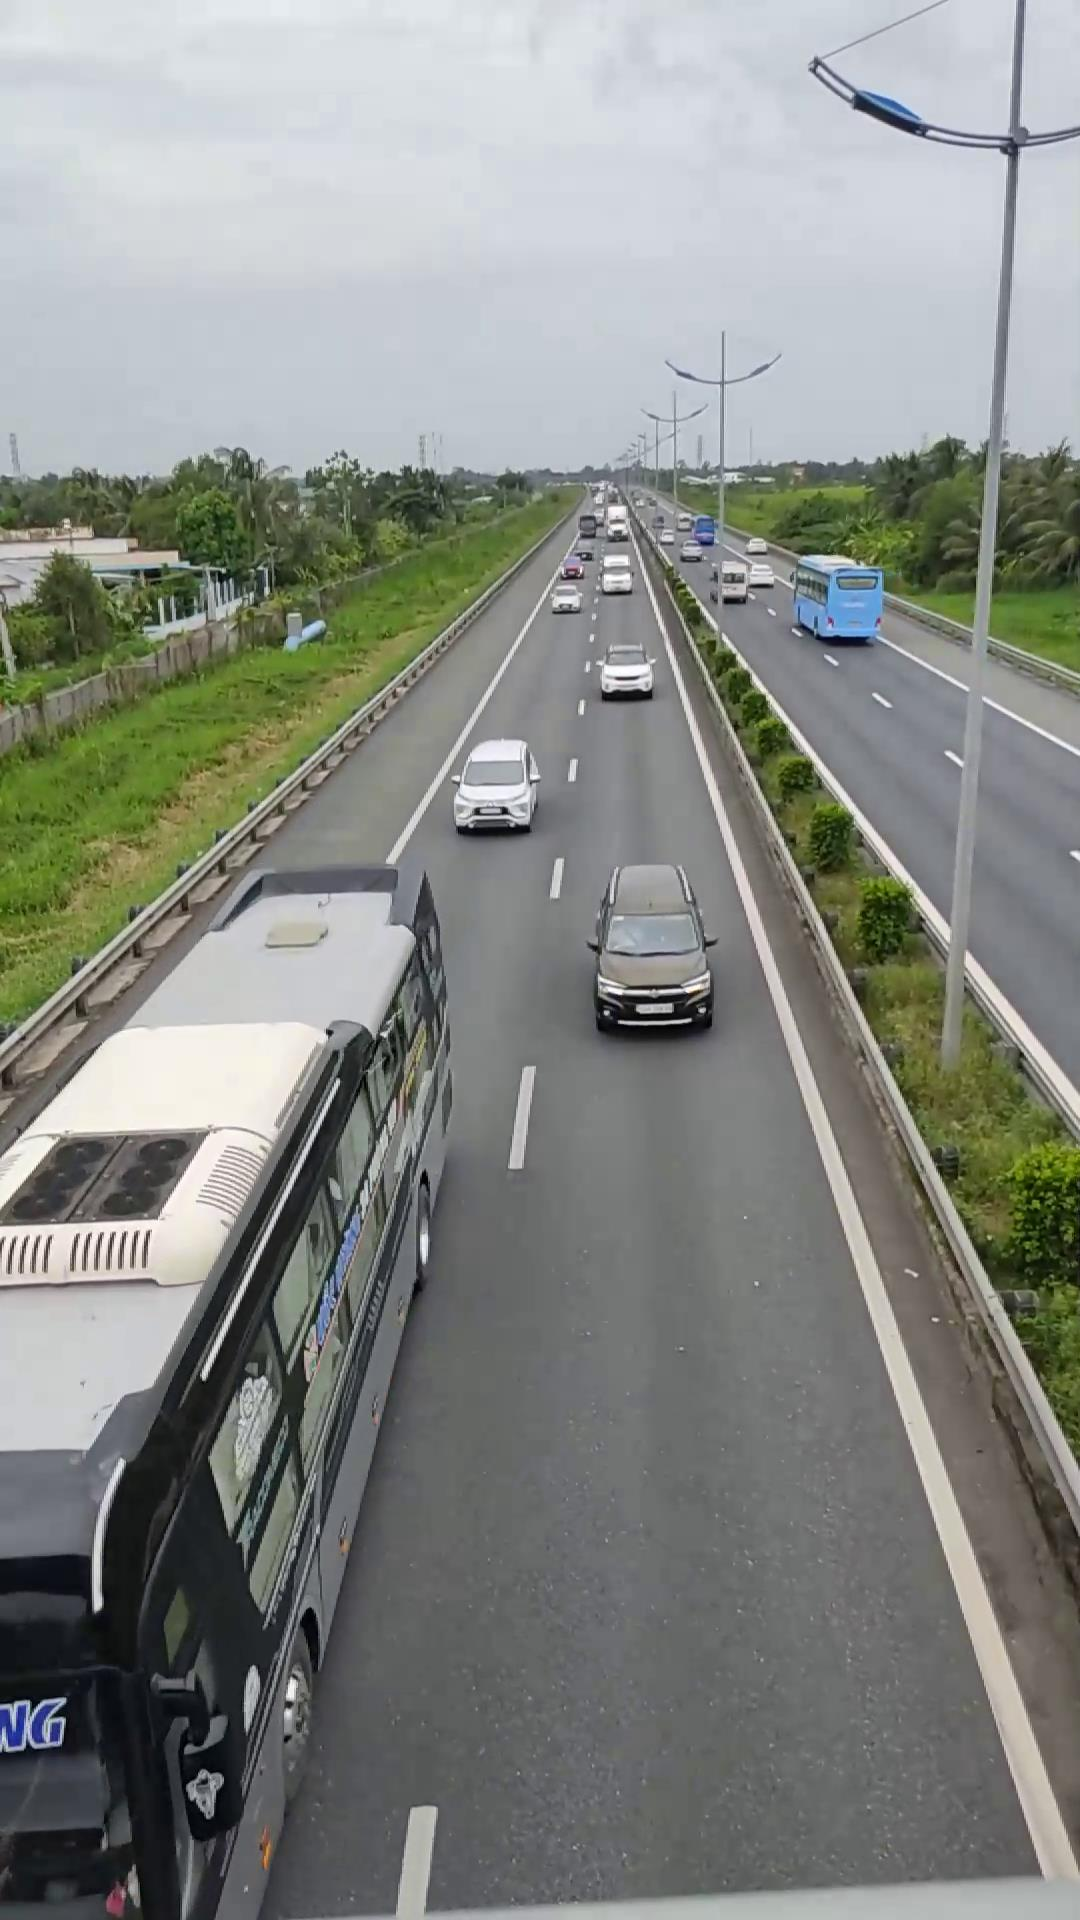bus: (0, 856, 462, 1898)
car: (585, 862, 717, 1031), (451, 737, 539, 833)
motorcycle: (0, 1675, 336, 1919)
